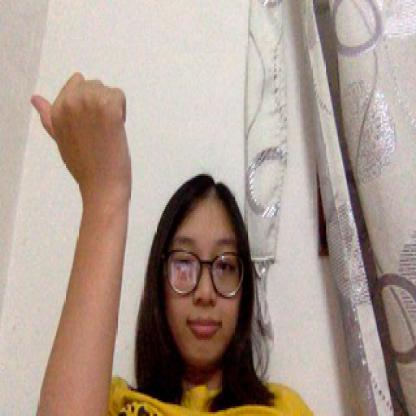right: (30, 75, 138, 194)
